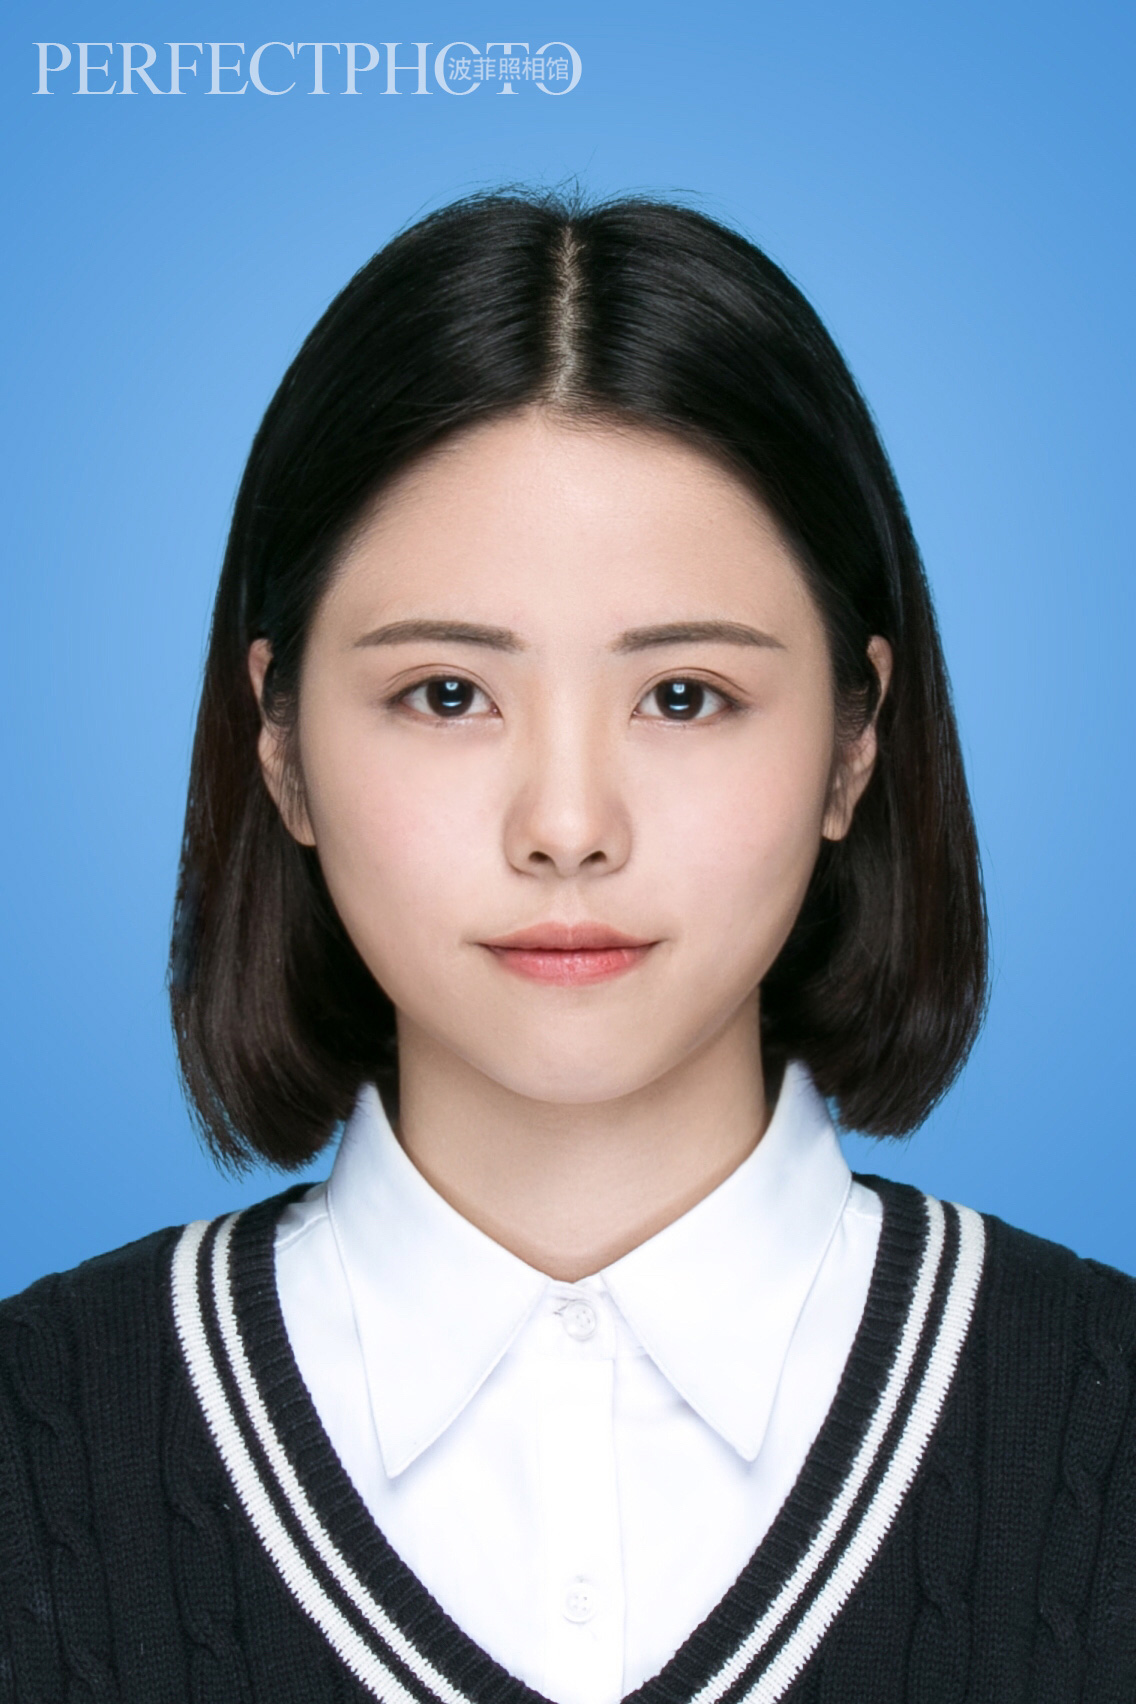unmask: (312, 431, 819, 1079)
